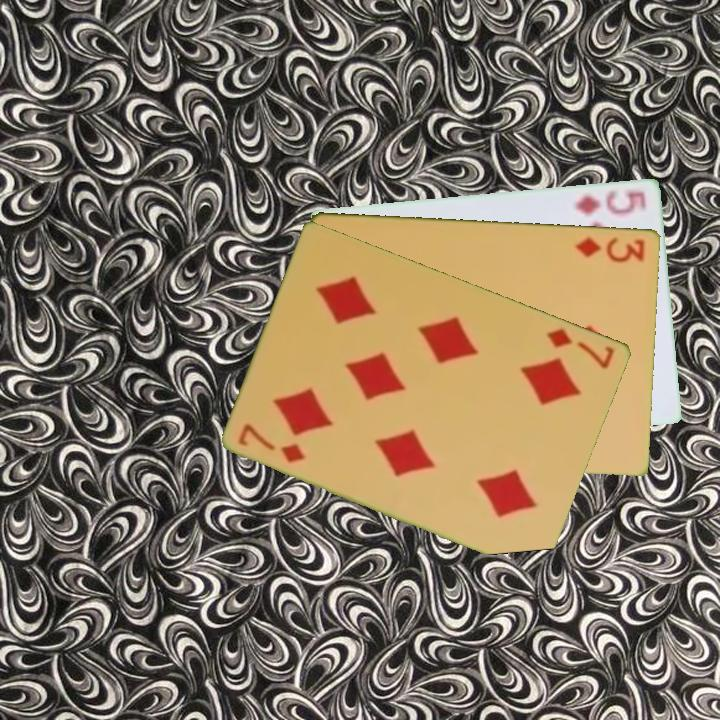3d: (572, 232, 648, 265)
5d: (572, 186, 649, 218)
7d: (543, 324, 618, 372), (235, 420, 309, 466)
